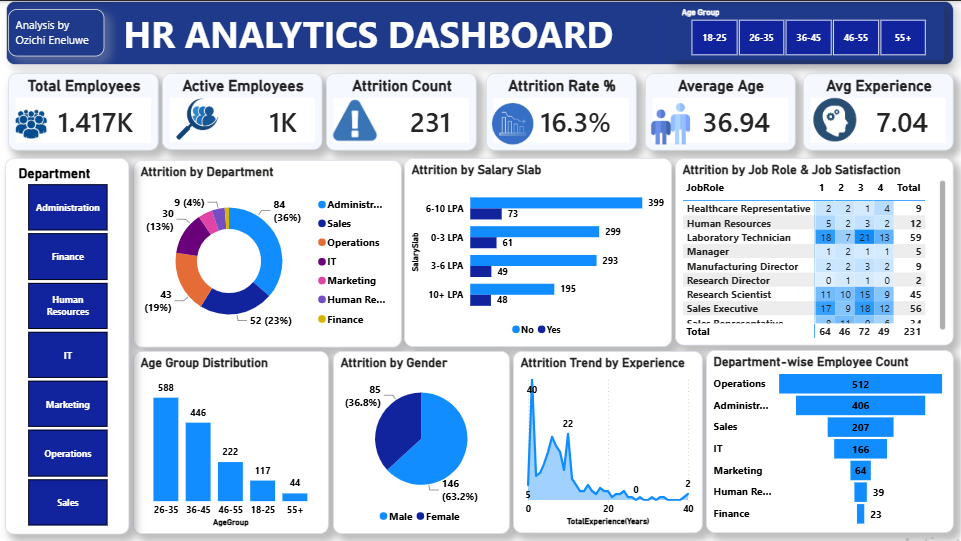

Layout of this report page (visuals, bound fields, positions):
{"tool":"powerbi","page":{"name":"Page 1","canvas":[1280,720],"ordinal":0},"visuals":[{"type":"textbox","box":[10,0,1259,85],"z":0},{"type":"image","box":[0,0,156,94],"z":1000},{"type":"cardVisual","title":"Total Employees","fields":{"Data":["CountNonNull(HR_Analytics-dataset.EmpID)"]},"box":[13.4,95.6,200.2,103.1],"z":2000},{"type":"cardVisual","title":"Active Employees","fields":{"Data":["Sum(HR_Analytics-dataset.EmployeeCount)"]},"box":[218.4,95.7,213.3,102.5],"z":3000},{"type":"cardVisual","title":"Attrition Count","fields":{"Data":["Sum(HR_Analytics-dataset.AttritionCount)"]},"box":[436.2,95.6,200.2,103.1],"z":4000},{"type":"cardVisual","title":"Attrition Rate %","fields":{"Data":["HR_Analytics-dataset.Attrition Rate %"]},"box":[648.3,95.6,200.2,103.1],"z":5000},{"type":"cardVisual","title":"Average Age","fields":{"Data":["Avg(HR_Analytics-dataset.Age)"]},"box":[858.9,95.6,200.2,103.1],"z":6000},{"type":"cardVisual","title":"Avg Experience","fields":{"Data":["Avg(HR_Analytics-dataset.YearsatCompany)"]},"box":[1069.5,95.6,200.2,103.1],"z":7000},{"type":"donutChart","title":"Attrition by Department","fields":{"Category":["HR_Analytics-dataset.Department"],"Y":["Sum(HR_Analytics-dataset.AttritionCount)"]},"box":[179.3,210.6,357,249.5],"z":8000},{"type":"clusteredBarChart","title":"Attrition by Salary Slab","fields":{"Category":["HR_Analytics-dataset.SalarySlab"],"Y":["CountNonNull(HR_Analytics-dataset.EmpID)"],"Series":["HR_Analytics-dataset.Attrition"]},"box":[539.3,209.1,355.5,251],"z":9000},{"type":"pivotTable","title":"Attrition by Job Role & Job Satisfaction","fields":{"Rows":["HR_Analytics-dataset.JobRole"],"Values":["Sum(HR_Analytics-dataset.AttritionCount)"],"Columns":["HR_Analytics-dataset.JobSatisfaction"]},"box":[899.3,209.1,370.5,249.5],"z":10000},{"type":"columnChart","title":"Age Group Distribution","fields":{"Category":["HR_Analytics-dataset.AgeGroup"],"Y":["Sum(HR_Analytics-dataset.EmployeeCount)"]},"box":[179.3,464.6,259.9,243.5],"z":11000},{"type":"pieChart","title":"Attrition by Gender","fields":{"Category":["HR_Analytics-dataset.Gender"],"Y":["Sum(HR_Analytics-dataset.AttritionCount)"]},"box":[445.1,464.6,234.5,243.5],"z":12000},{"type":"areaChart","title":"Attrition Trend by Experience","fields":{"Category":["HR_Analytics-dataset.TotalExperience(Years)"],"Y2":["Sum(HR_Analytics-dataset.AttritionCount)"]},"box":[684.1,464.6,252.4,242],"z":13000},{"type":"funnel","title":"Department-wise Employee Count","fields":{"Category":["HR_Analytics-dataset.Department"],"Y":["CountNonNull(HR_Analytics-dataset.EmpID)"]},"box":[941.1,463.1,328.6,243.5],"z":14000},{"type":"slicer","fields":{"Values":["HR_Analytics-dataset.Department"]},"box":[9,209,165,500],"z":15000},{"type":"slicer","fields":{"Values":["HR_Analytics-dataset.AgeGroup"]},"box":[894.8,4.5,361.5,74.7],"z":16000},{"type":"image","box":[655.8,127,55.3,71.7],"z":16001},{"type":"image","box":[866.4,127,55.3,71.7],"z":16002},{"type":"image","box":[439.2,124,68.7,70.2],"z":16003},{"type":"image","box":[1075.5,119.5,79.2,67.2],"z":16004},{"type":"image","box":[203.2,121,122.5,71.7],"z":16005},{"type":"image","box":[22.4,127,43.3,71.7],"z":16006}]}

Visuals, with their boxes in screenshot pixels (x1, y1, x2, y2), scaled from the page's 1280x720 canvas onto the 961x541 screenshot:
textbox: rect(8, 0, 953, 64)
image: rect(0, 0, 117, 71)
"Total Employees" cardVisual: rect(10, 72, 160, 149)
"Active Employees" cardVisual: rect(164, 72, 324, 149)
"Attrition Count" cardVisual: rect(327, 72, 478, 149)
"Attrition Rate %" cardVisual: rect(487, 72, 637, 149)
"Average Age" cardVisual: rect(645, 72, 795, 149)
"Avg Experience" cardVisual: rect(803, 72, 953, 149)
"Attrition by Department" donutChart: rect(135, 158, 403, 346)
"Attrition by Salary Slab" clusteredBarChart: rect(405, 157, 672, 346)
"Attrition by Job Role & Job Satisfaction" pivotTable: rect(675, 157, 953, 345)
"Age Group Distribution" columnChart: rect(135, 349, 330, 532)
"Attrition by Gender" pieChart: rect(334, 349, 510, 532)
"Attrition Trend by Experience" areaChart: rect(514, 349, 703, 531)
"Department-wise Employee Count" funnel: rect(707, 348, 953, 531)
slicer - HR_Analytics-dataset.Department: rect(7, 157, 131, 533)
slicer - HR_Analytics-dataset.AgeGroup: rect(672, 3, 943, 60)
image: rect(492, 95, 534, 149)
image: rect(650, 95, 692, 149)
image: rect(330, 93, 381, 146)
image: rect(807, 90, 867, 140)
image: rect(153, 91, 245, 145)
image: rect(17, 95, 49, 149)
